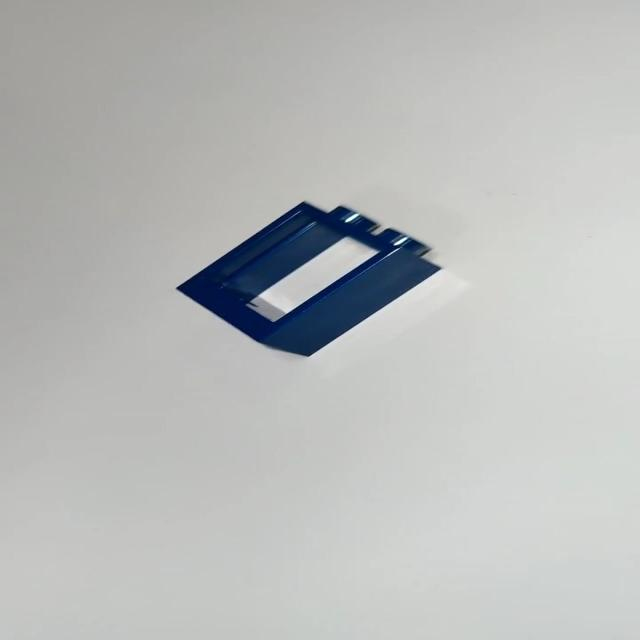W2x1x2: (176, 196, 451, 369)
